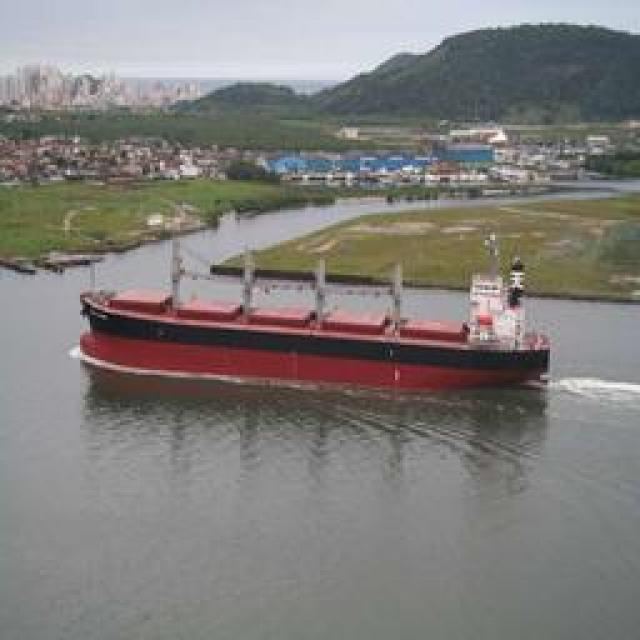CIV_Ship: (82, 242, 558, 400)
